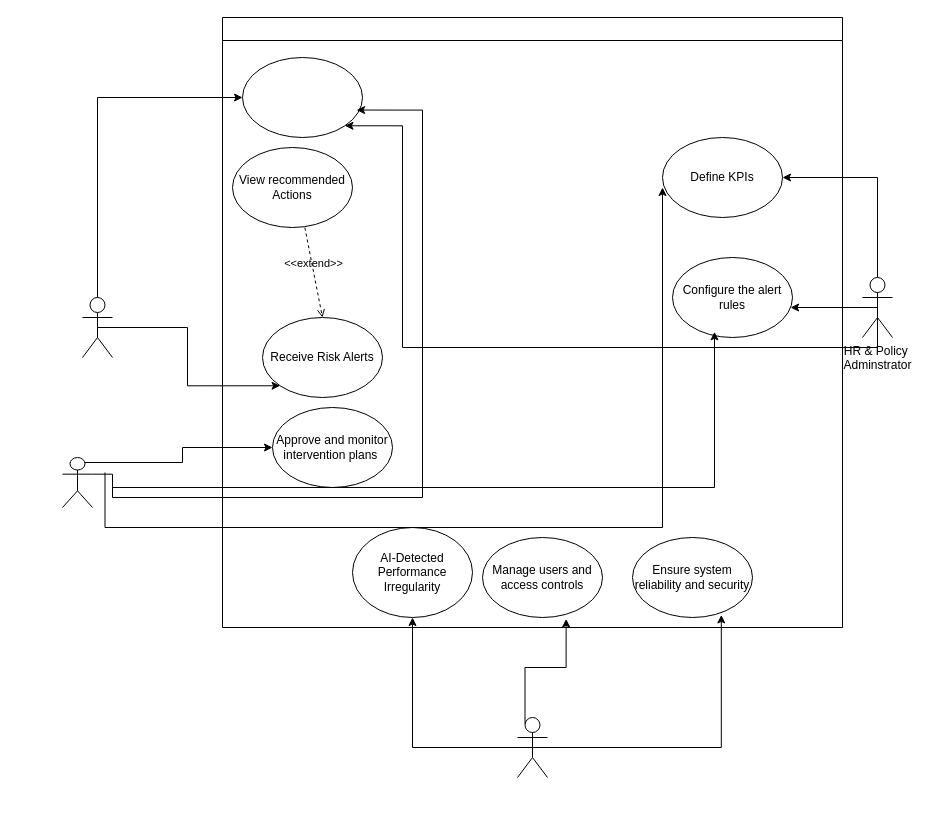
Some shapes in this 929 by 816 pixel diagram are drawn without their labels. The box of each missing label's shape, as (x1, y1, x2, y2) in pixels:
Employee: (82, 296, 112, 358)
Proactive Performance Monitoring and Productivity: (222, 16, 842, 628)
System Adminstrator: (516, 716, 548, 778)
Team Leader/Manager: (62, 456, 92, 508)
View Employee Productivity: (242, 56, 362, 138)
